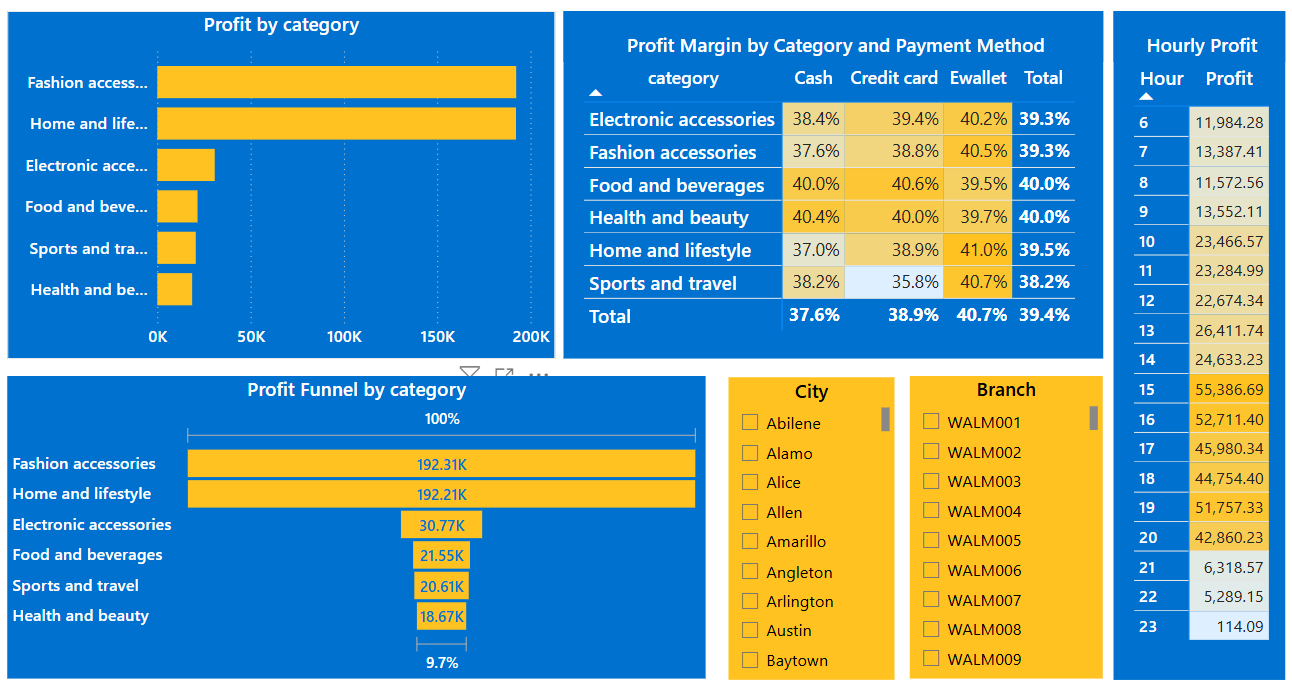

This screenshot's page, from the dashboard's own definition file:
{"tool":"powerbi","page":{"name":"Profitability Analysis","canvas":[1280,720],"ordinal":2},"visuals":[{"type":"pivotTable","title":"Profit Margin by Category and Payment Method","fields":{"Rows":["Walmart.category"],"Columns":["Walmart.payment_method"],"Values":["Avg(Walmart.profit_margin)"]},"box":[565.3,19.4,527.8,340.3],"z":0},{"type":"barChart","fields":{"Category":["Walmart.category"],"Y":["Walmart.Profit"]},"box":[20.8,19.4,536.1,340.3],"z":1000},{"type":"funnel","title":"Profit Funnel by category","fields":{"Category":["Walmart.category"],"Y":["Walmart.Profit"]},"box":[20.8,376.4,683.3,295.8],"z":2000},{"type":"slicer","title":"City","fields":{"Values":["Walmart.City"]},"box":[726.4,377.8,162.5,295.8],"z":2001},{"type":"slicer","title":"Branch","fields":{"Values":["Walmart.Branch"]},"box":[904.2,376.4,188.9,295.8],"z":2002},{"type":"pivotTable","title":"Hourly Profit","fields":{"Rows":["Walmart.Hour"],"Values":["Walmart.Profit"]},"box":[1102.8,19.4,168.1,654.2],"z":2003}]}

Visuals, with their boxes on the page's 1280x720 design canvas (x1, y1, x2, y2). These are canvas units, not pixel positions in the 1292x691 screenshot, which may show the page scaled, cropped or inside an application window:
"Profit Margin by Category and Payment Method" pivotTable: select_region(565, 19, 1093, 360)
barChart - Walmart.category x Walmart.Profit: select_region(21, 19, 557, 360)
"Profit Funnel by category" funnel: select_region(21, 376, 704, 672)
"City" slicer: select_region(726, 378, 889, 674)
"Branch" slicer: select_region(904, 376, 1093, 672)
"Hourly Profit" pivotTable: select_region(1103, 19, 1271, 674)
